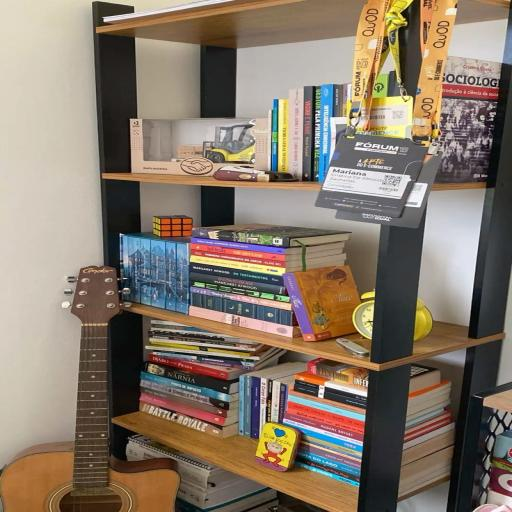bed: (283, 266, 360, 341), (192, 225, 349, 248), (319, 84, 342, 181), (192, 238, 302, 255)
road: (64, 0, 510, 512)
